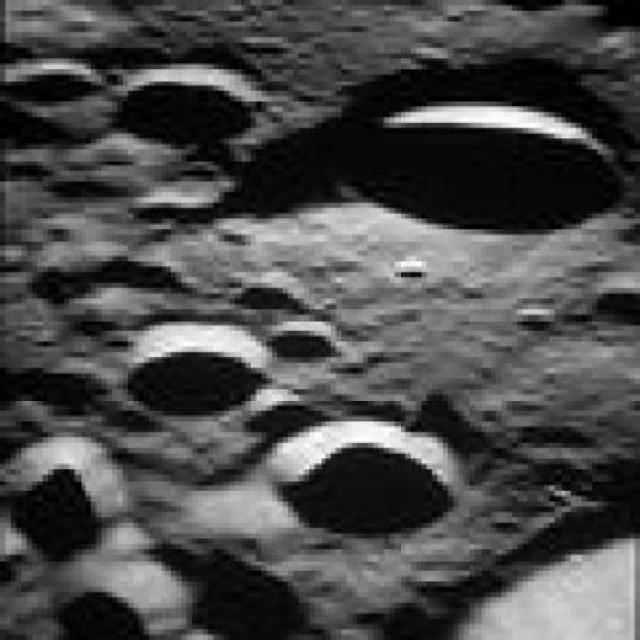crater: (328, 100, 628, 238), (274, 418, 458, 542), (0, 434, 143, 563), (30, 552, 198, 636), (104, 68, 264, 147), (121, 346, 272, 420), (3, 65, 105, 110), (257, 322, 348, 364)
